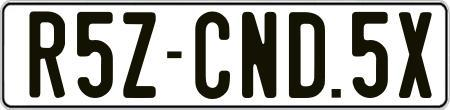5: (77, 11, 118, 102), (350, 10, 390, 101)
C: (193, 10, 231, 98)
D: (286, 11, 326, 99)
N: (239, 11, 278, 97)
R: (30, 9, 67, 101)
X: (396, 12, 431, 103)
Z: (123, 9, 158, 98)
